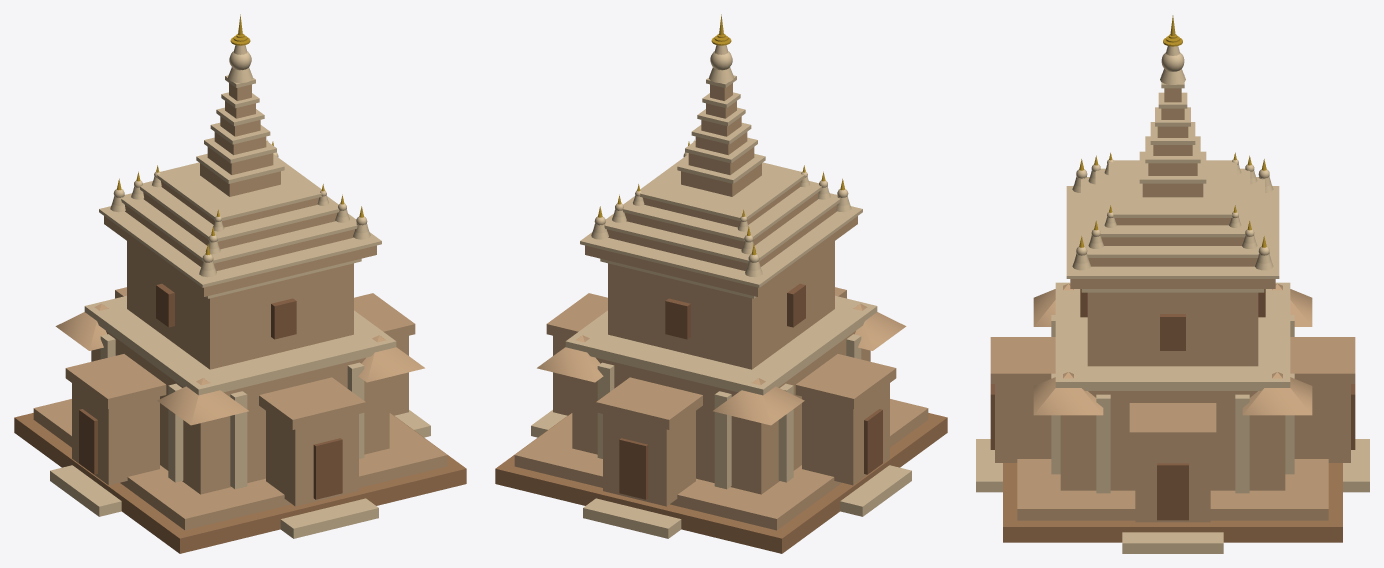
The model's file is sulamani-temple.glb.
3 renders of one model, left to right at view 1: azimuth 30°, elevation 25°; view 2: azimuth 150°, elevation 25°; view 3: azimuth 270°, elevation 25°, orthographic. The views are drawn at different scales.
Parts seen in each view (by area): view 1: brick, stucco, brickDeep, recess; view 2: brick, stucco, brickDeep, recess; view 3: brick, stucco, brickDeep, recess, gold.
Boxes of the visible parts, box(x1,y1,x2,y2) form: brick: box(33, 83, 447, 530); stucco: box(50, 45, 430, 538); brickDeep: box(14, 413, 466, 553); recess: box(79, 283, 342, 499); brick: box(514, 83, 928, 530); stucco: box(531, 45, 911, 538); brickDeep: box(495, 413, 947, 553); recess: box(619, 283, 882, 499); brick: box(990, 88, 1355, 522); stucco: box(976, 46, 1369, 553); brickDeep: box(1003, 463, 1342, 542); recess: box(990, 289, 1355, 520); gold: box(1079, 15, 1266, 247).
Bounding box in the file's own units: 2.72 × 3.48 × 2.72.
